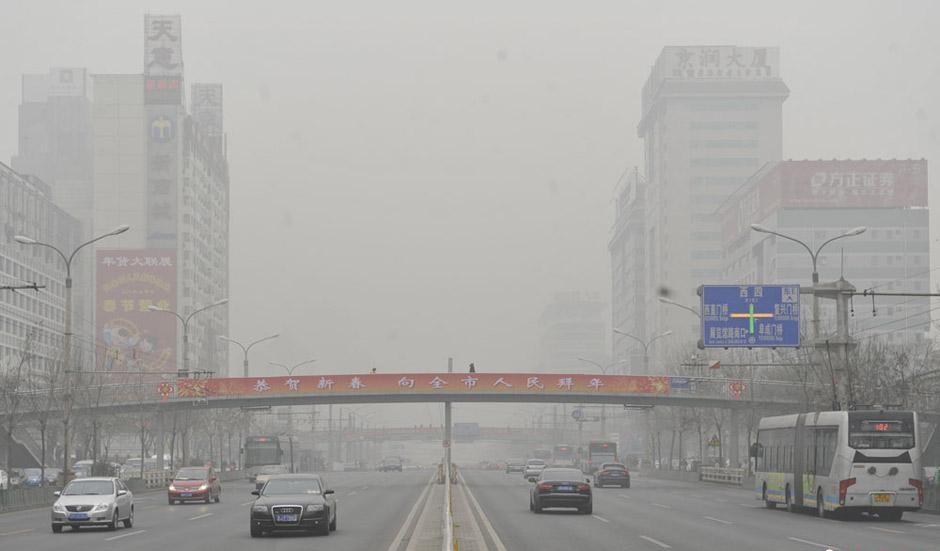bus: (747, 408, 924, 522), (239, 433, 306, 482), (577, 440, 618, 473)
car: (248, 471, 337, 537), (50, 475, 135, 533), (527, 465, 592, 512), (165, 463, 223, 503), (256, 462, 291, 493), (593, 462, 631, 488), (524, 458, 547, 480), (382, 453, 403, 473), (504, 458, 528, 475)
